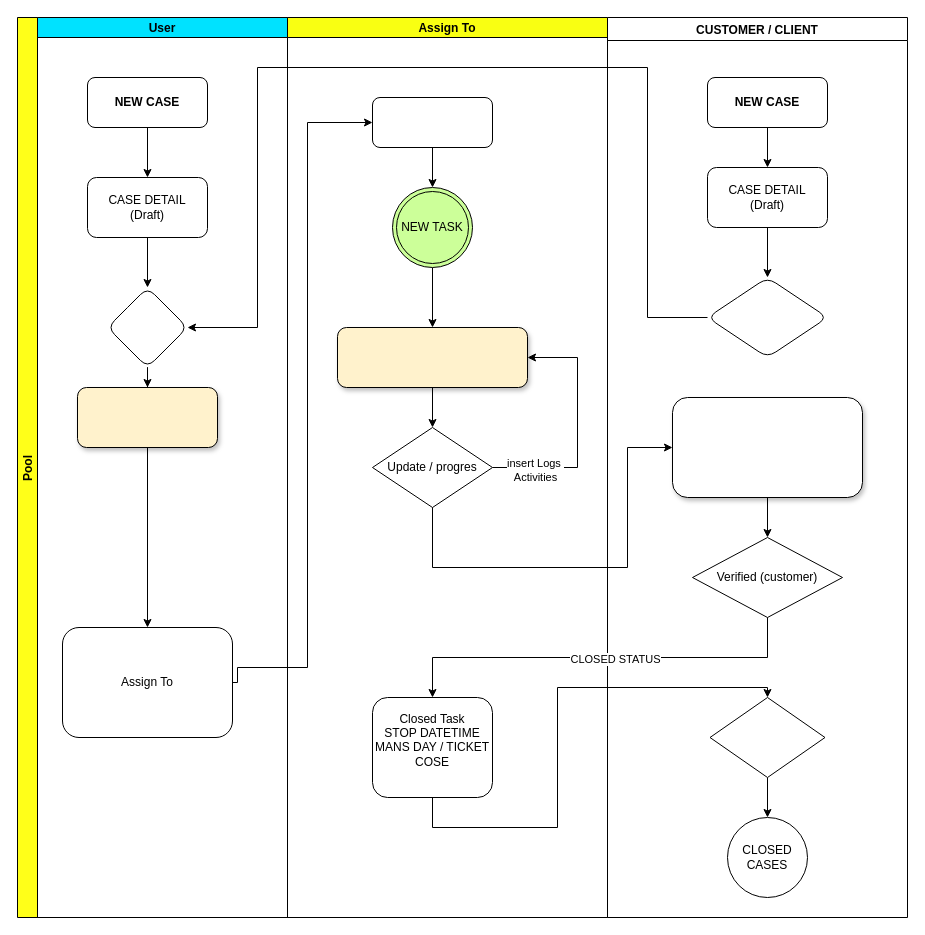
This 925x935 diagram has some shape labels left out. The centre of each missing label's shape, as x and y in pixels:
"Customer Rating" goes at (767,737).
"List Open CASES" goes at (432,122).
"Logs Activities*" goes at (433,358).
"REPORTS CLOSE SUMMARY" goes at (768,448).
"Start CASED" goes at (147,327).
"SUBMIT SLA timer RUN" goes at (767,317).
"Update logs Acitviites , Open , start Date" goes at (148,418).
